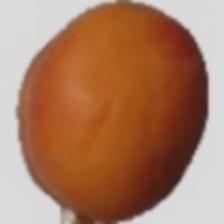apricot: (28, 21, 184, 166)
